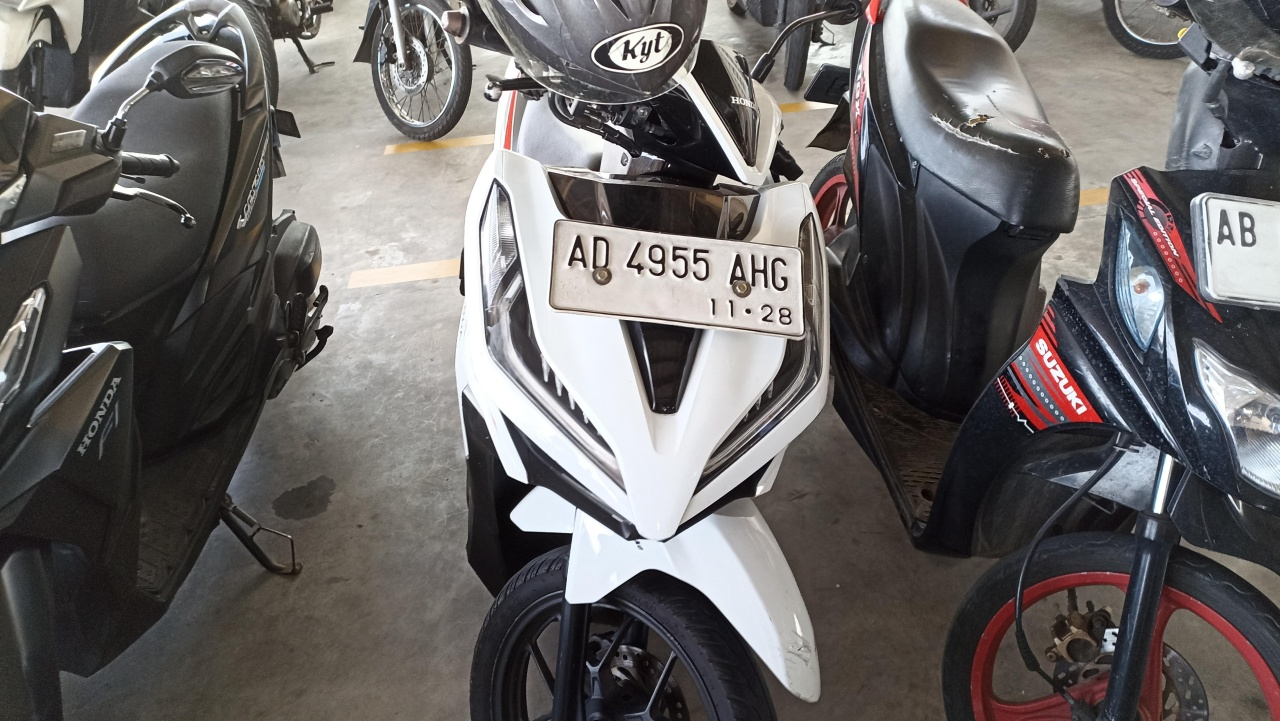plate: (549, 220, 805, 342)
